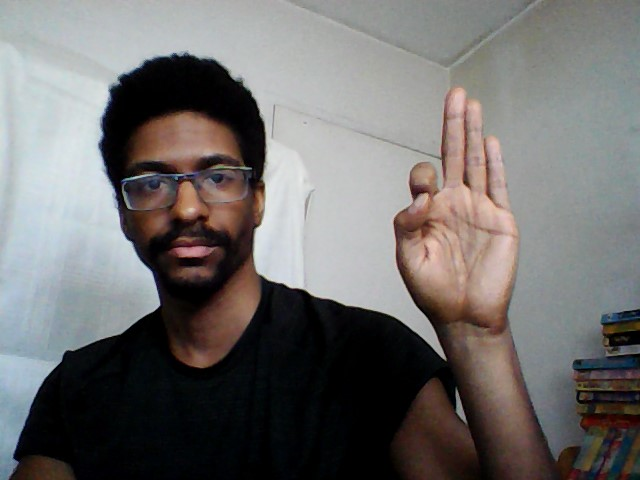f: (388, 81, 522, 340)
